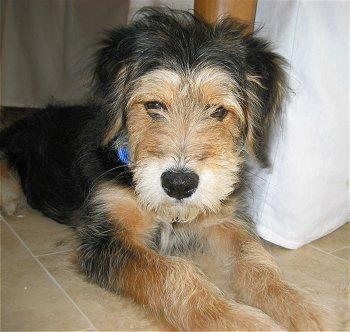wire-haired_fox_terrier: (0, 6, 332, 331)
